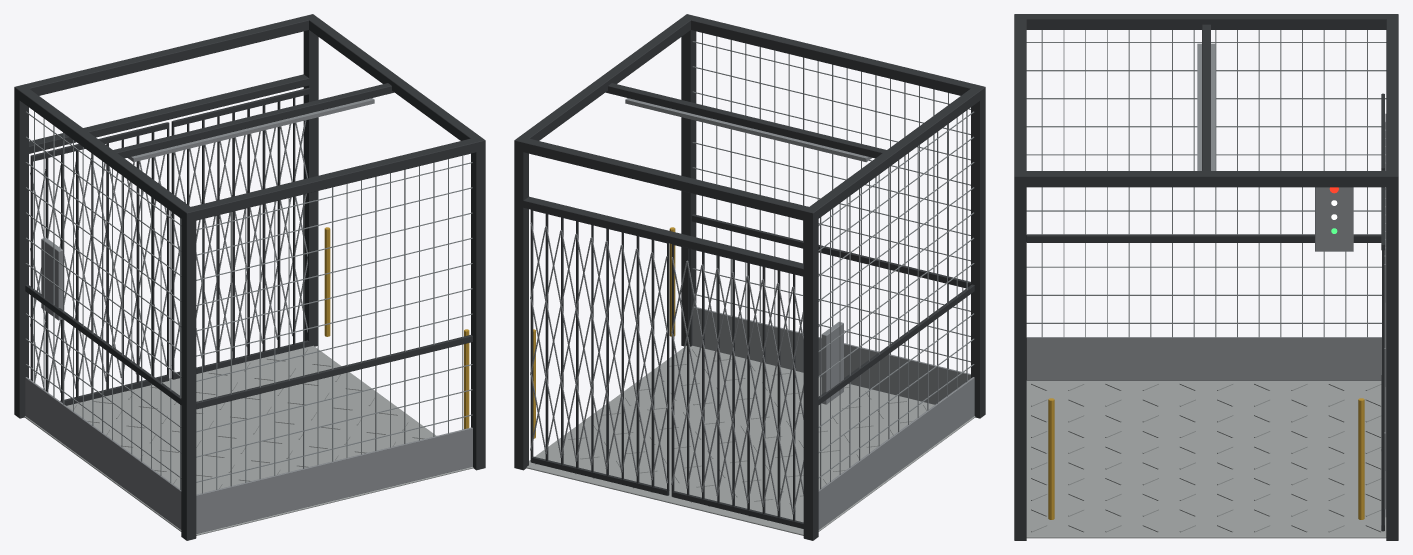
File: prop_cash_lift_car_w240.glb
The picture shows the model from 3 angles, left to right: view 1: azimuth 30°, elevation 25°; view 2: azimuth 150°, elevation 25°; view 3: azimuth 270°, elevation 25°; orthographic projection. The views are drawn at different scales.
Visible parts, largest first — view 1: Car, DoorR, DoorL, Panel; view 2: Car, DoorR, DoorL, Panel; view 3: Car, Panel, DoorR, DoorL.
Boxes of the visible parts, x1,y1,x2,y2 form: Car: (14,14,485,540); DoorR: (171,88,310,379); DoorL: (30,122,169,405); Panel: (41,237,62,320); Car: (514,14,985,540); DoorR: (530,209,669,495); DoorL: (671,244,803,528); Panel: (821,322,843,404); Car: (1014,14,1398,540); Panel: (1315,187,1353,251); DoorR: (1381,170,1386,531); DoorL: (1381,93,1386,451).
Bounding box in the file's own units: 2.48 × 2.6 × 2.48.
